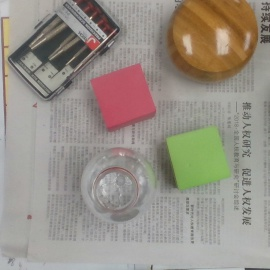bottle: (79, 147, 154, 224)
remote: (164, 1, 259, 83)
